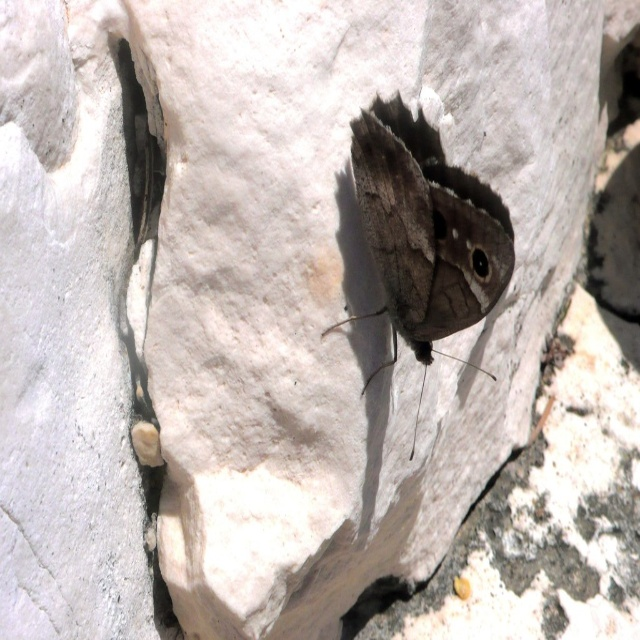Moths and butterflies: (321, 85, 519, 465)
